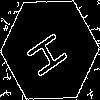H: (25, 25, 76, 80)
